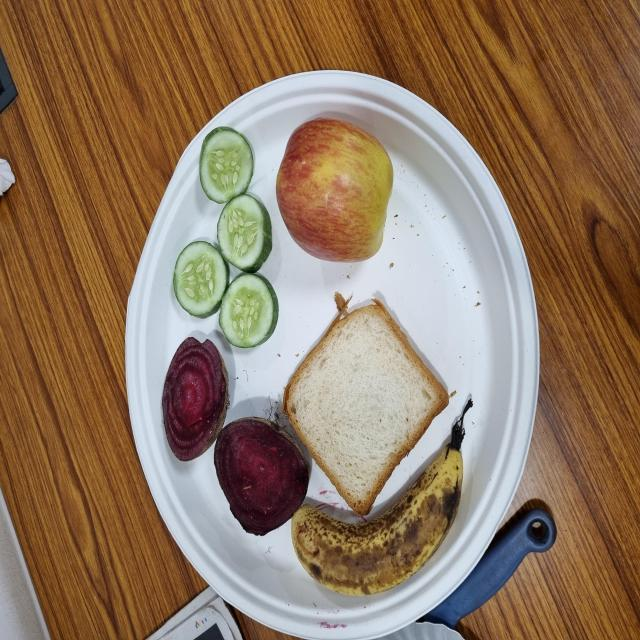apple: (283, 368, 393, 529)
banana: (33, 389, 161, 620)
cucumber: (239, 231, 301, 319), (218, 291, 279, 374), (325, 266, 385, 342), (276, 289, 336, 364)
